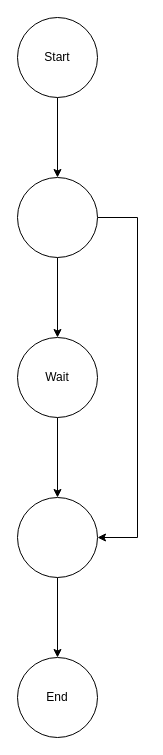
The diagram is 163 pixels wide and 755 high, and some of its shapes have lost their labels. The centre of each missing label's shape, as x and y in pixels:
"FadeIn" goes at point 57,217.
"FadeOut" goes at point 57,537.
